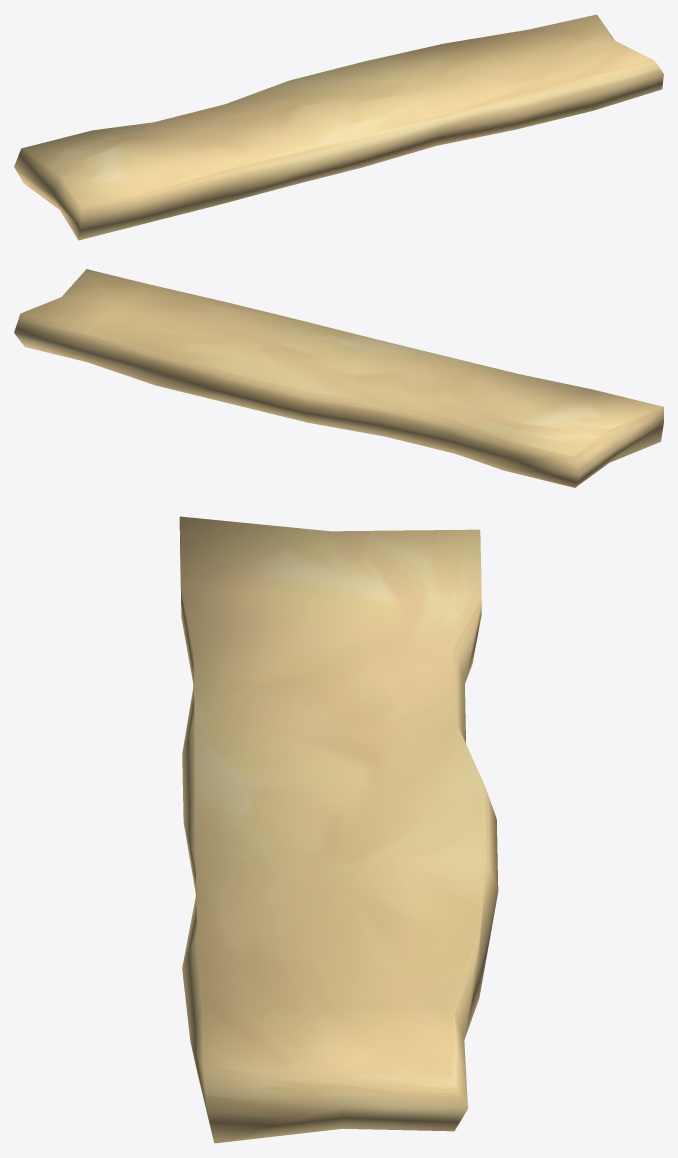
The model's file is planche.glb.
The picture shows the model from 3 angles, top to bottom: view 1: azimuth 30°, elevation 25°; view 2: azimuth 150°, elevation 25°; view 3: azimuth 270°, elevation 25°; orthographic projection. The views are drawn at different scales.
Visible parts, largest first — view 1: planche.001; view 2: planche.001; view 3: planche.001.
Boxes of the visible parts, x1=… form: planche.001: x1=14, y1=14, x2=663, y2=240; planche.001: x1=14, y1=269, x2=663, y2=487; planche.001: x1=179, y1=516, x2=498, y2=1143.
Size of the model in its own units: 2.41 by 0.1437 by 0.5716.
Materials: 1 (1 with a texture image).
